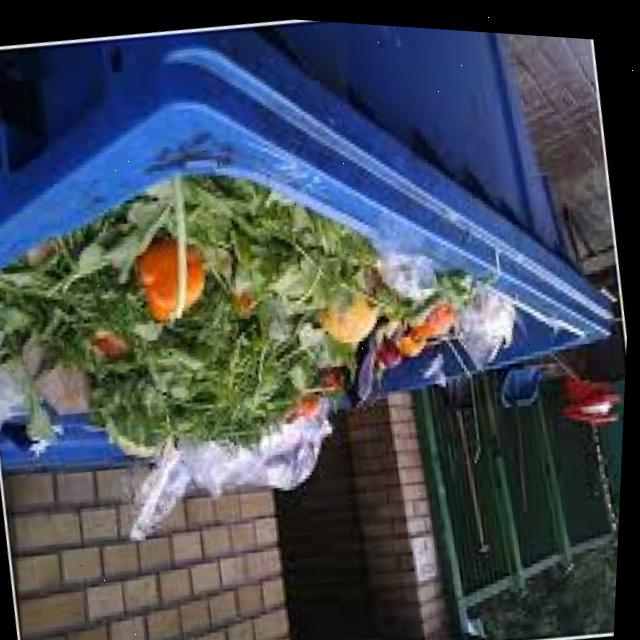Wet: (159, 317, 284, 423), (132, 238, 212, 323)
